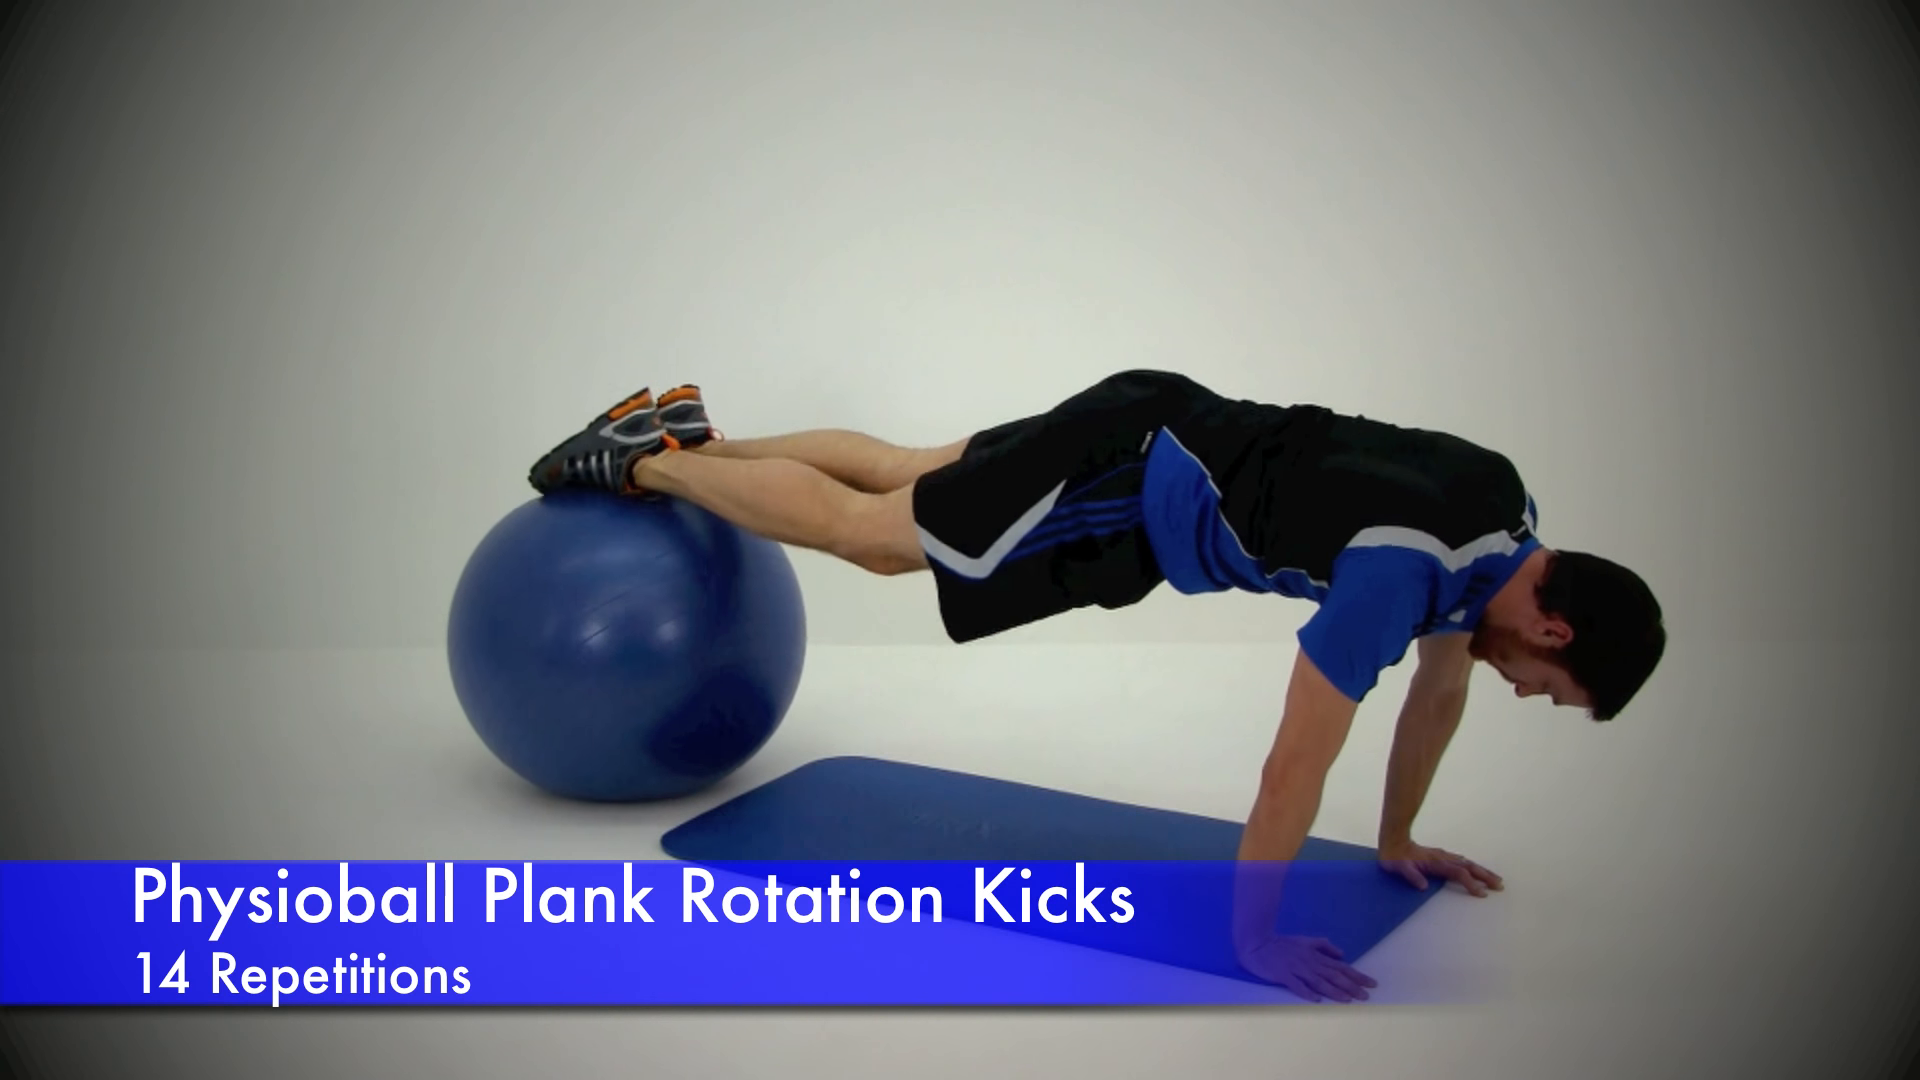yogaball: (440, 477, 819, 832)
